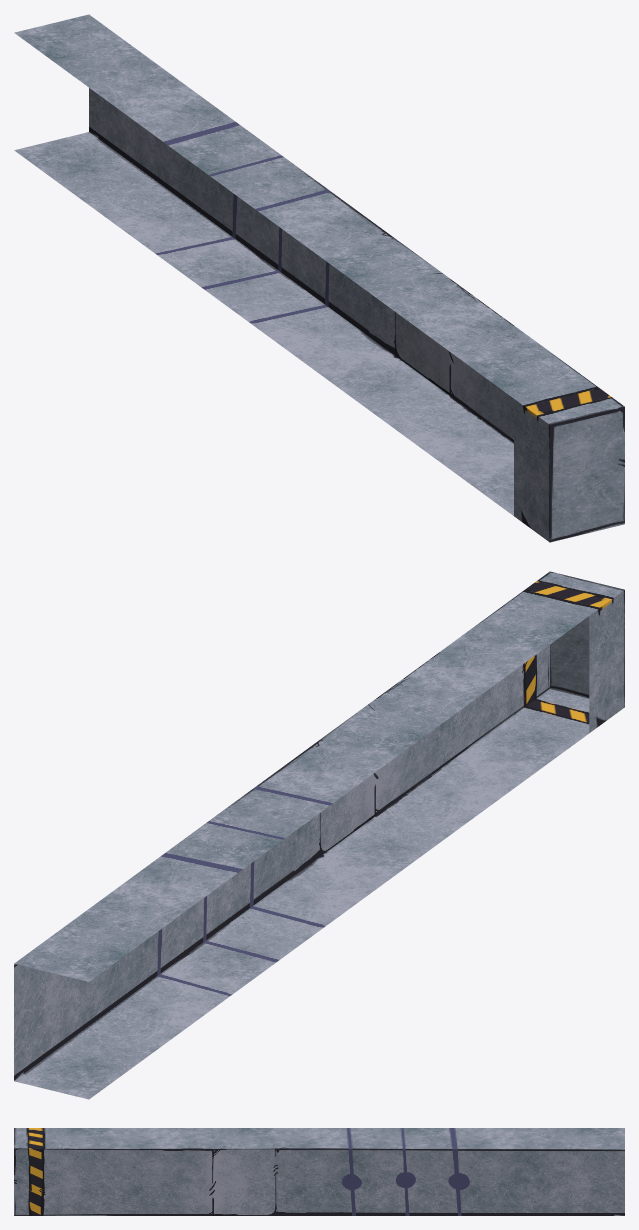
File: FBX_Pillier.fbx
3 views of the same model, one above another, from view 1: azimuth 30°, elevation 25°; view 2: azimuth 150°, elevation 25°; view 3: azimuth 270°, elevation 25° (orthographic). The views are drawn at different scales.
Visible parts, largest first — view 1: Cube.200; view 2: Cube.200; view 3: Cube.200.
Part boxes in pixels (bbox=[...]): Cube.200: bbox=[14, 14, 624, 542]; Cube.200: bbox=[14, 571, 624, 1099]; Cube.200: bbox=[14, 1128, 624, 1215].
Bounding box in the file's own units: 118 × 177 × 1460.
